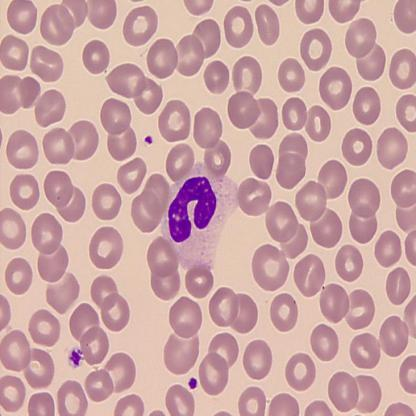Band Neutrophil: (158, 156, 241, 277)
